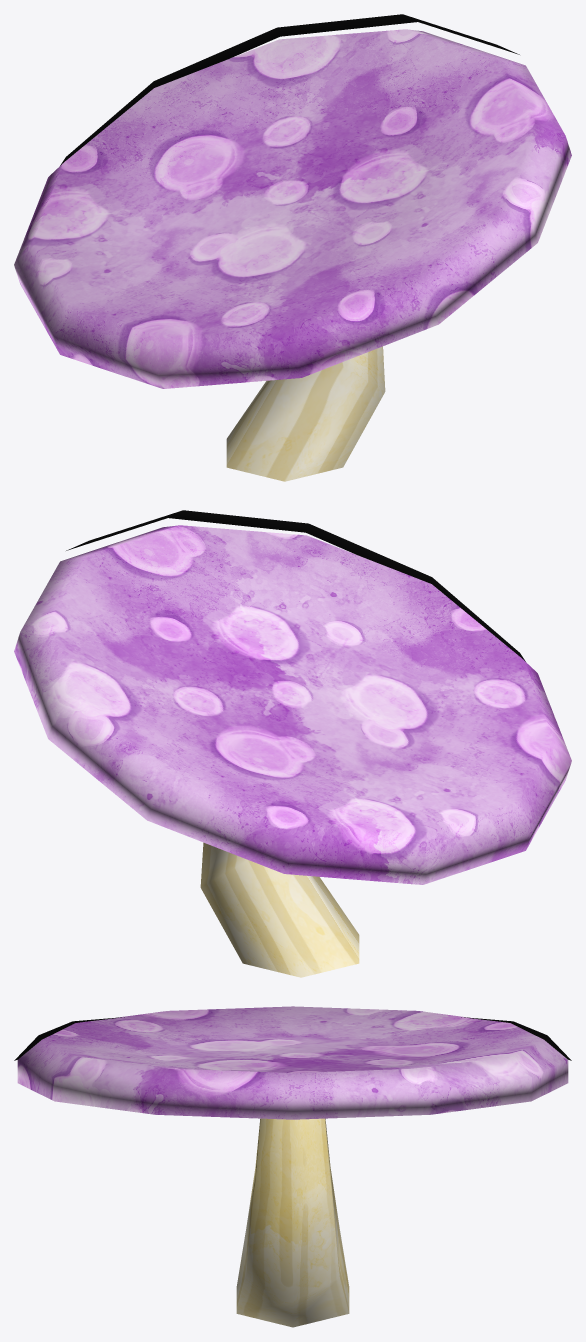
File: s0_Mushroom_01__1__01.glb
3 views of the same model, one above another, from view 1: azimuth 30°, elevation 25°; view 2: azimuth 150°, elevation 25°; view 3: azimuth 270°, elevation 25° (orthographic). The views are drawn at different scales.
Parts seen in each view (by area): view 1: node_Mushroom_01 (1); view 2: node_Mushroom_01 (1); view 3: node_Mushroom_01 (1).
Part boxes in pixels (x1,y1,x2,y2): node_Mushroom_01 (1): (14,14,571,481); node_Mushroom_01 (1): (14,510,571,977); node_Mushroom_01 (1): (14,1006,571,1327).
Size of what is drawn, in the model's own units: 0.7802 by 0.5561 by 0.8177.
3 materials, 2 textured.
